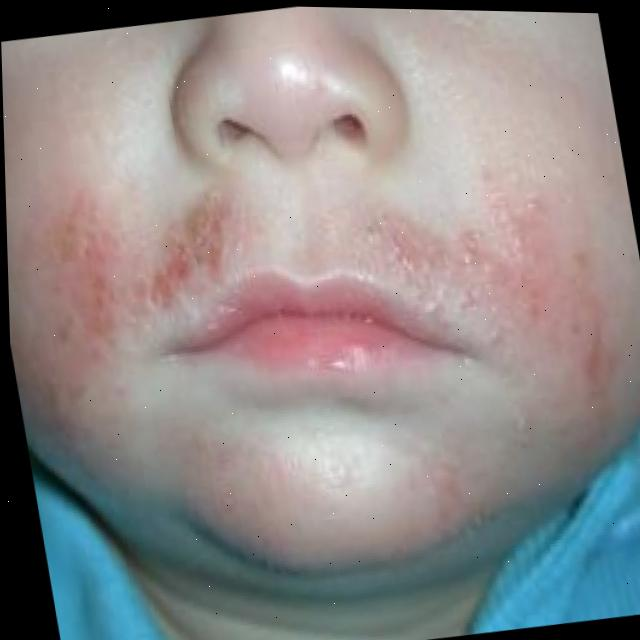Eczema: (398, 158, 621, 390), (169, 416, 451, 599), (18, 178, 234, 368)
